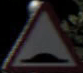Speed Breaker ahead: (7, 8, 74, 68)
